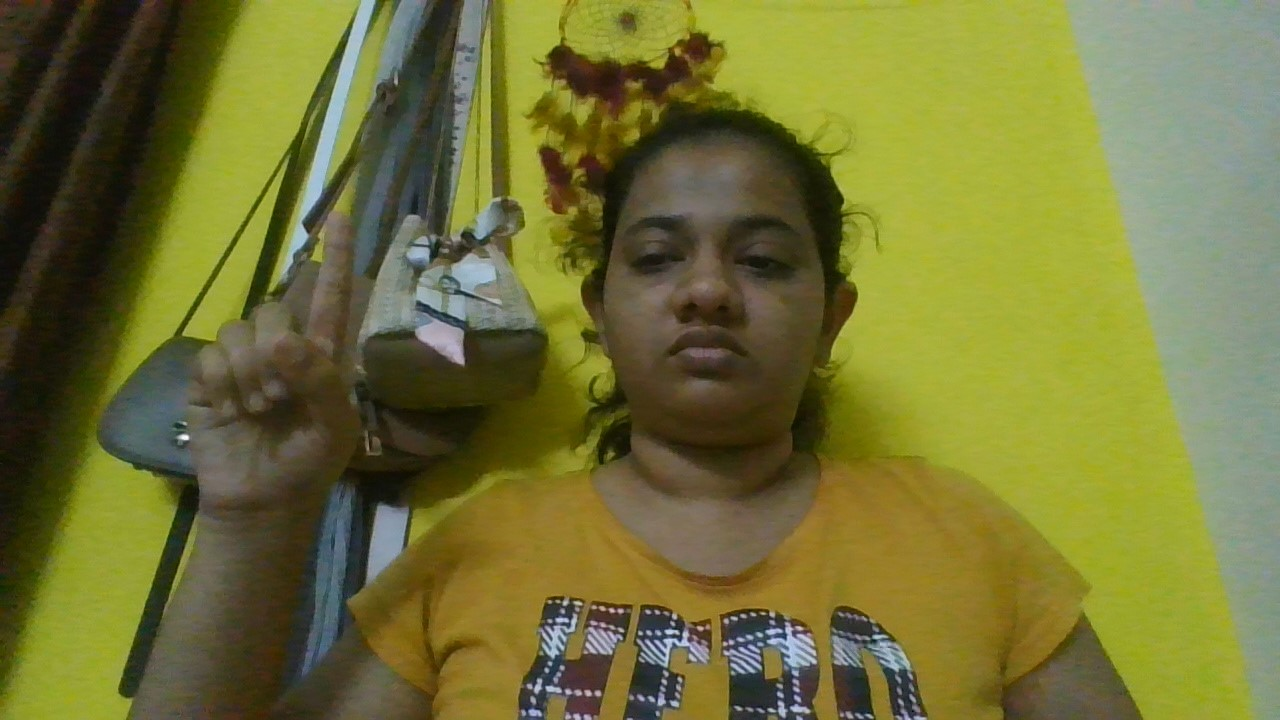d: (174, 207, 371, 547)
